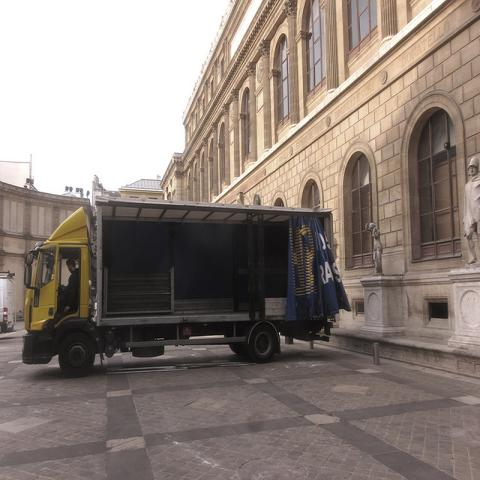truck: (20, 199, 350, 377)
